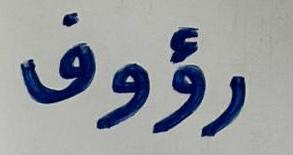feh: (10, 9, 96, 114)
reh: (212, 54, 263, 143)
waw: (98, 21, 151, 138), (156, 16, 202, 144)
